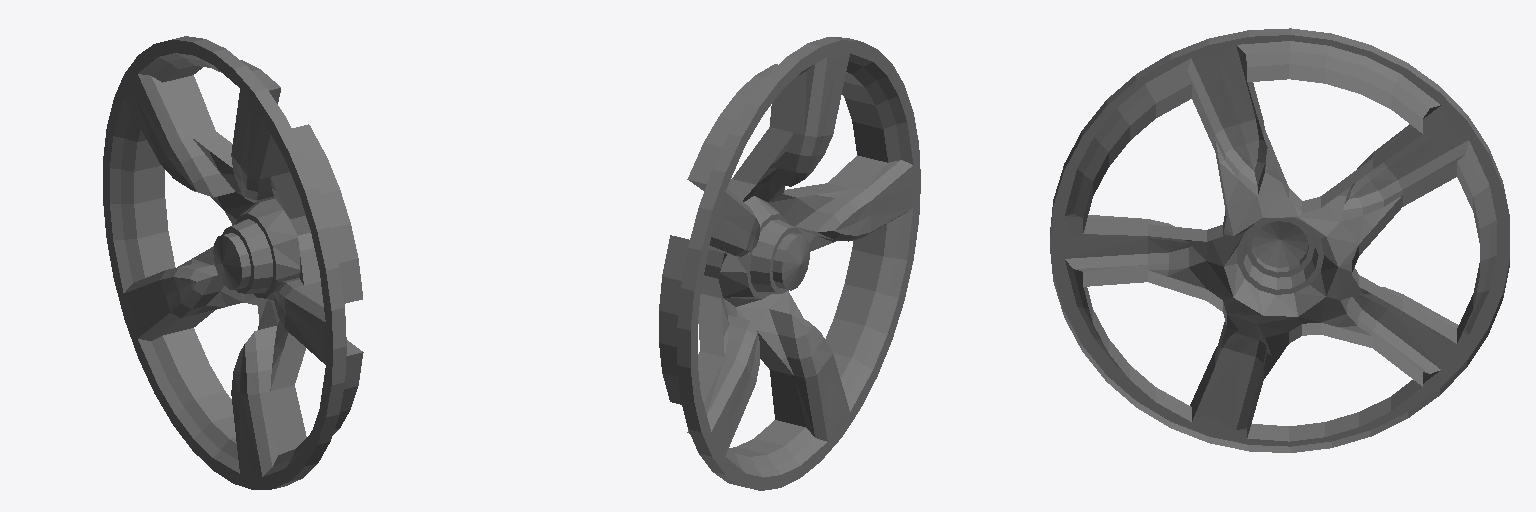
The model's file is Rin4_Carro.obj.
3 renders of one model, left to right at view 1: azimuth 30°, elevation 25°; view 2: azimuth 150°, elevation 25°; view 3: azimuth 270°, elevation 25°, orthographic.
Parts seen in each view (by area): view 1: Rin4_Carro; view 2: Rin4_Carro; view 3: Rin4_Carro.
Part boxes in pixels (left/top/right/bottom): Rin4_Carro: left=103, top=36, right=363, bottom=489; Rin4_Carro: left=659, top=37, right=920, bottom=490; Rin4_Carro: left=1050, top=28, right=1509, bottom=452.
Size of the model in its own units: 3.33 by 17.59 by 17.57.